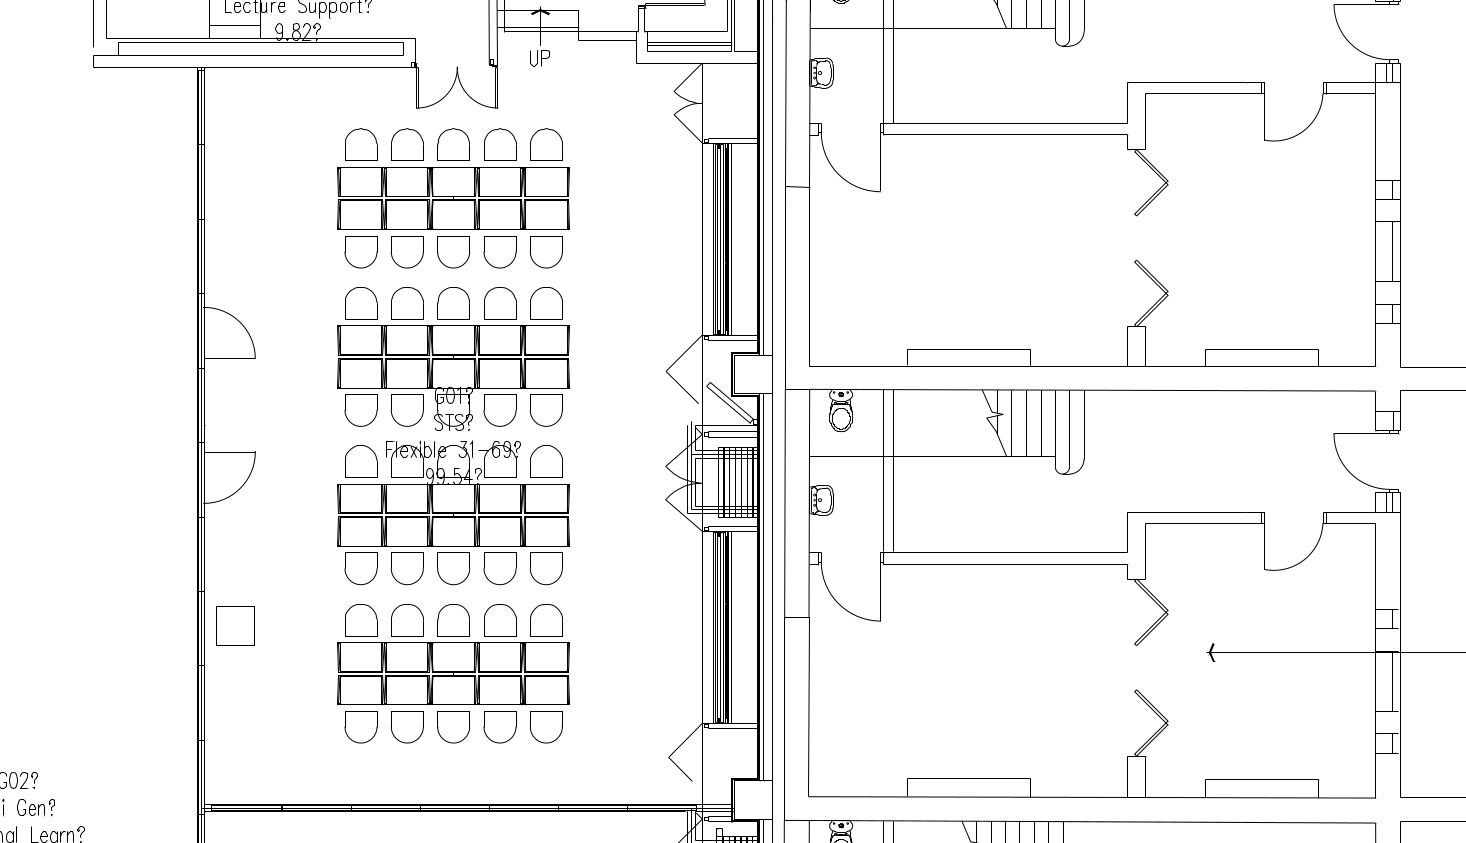door: (408, 61, 506, 115), (1260, 506, 1329, 581), (820, 121, 889, 196), (818, 565, 887, 640), (1250, 92, 1327, 152), (1329, 432, 1406, 491), (1324, 1, 1401, 60), (204, 303, 266, 370), (203, 442, 265, 509)
